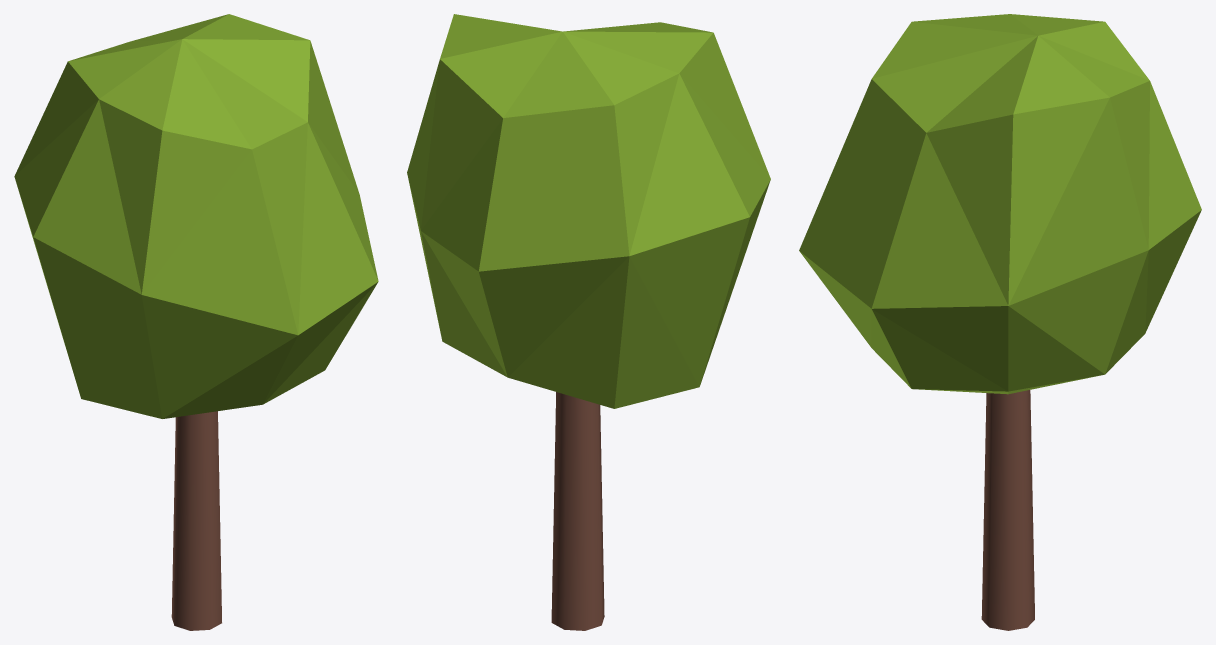
The model's file is tree1.fbx.
3 views of the same model, side by side, from view 1: azimuth 30°, elevation 25°; view 2: azimuth 150°, elevation 25°; view 3: azimuth 270°, elevation 25° (orthographic). The views are drawn at different scales.
Visible parts, largest first — view 1: sptp_tree_02; view 2: sptp_tree_02; view 3: sptp_tree_02.
Part boxes in pixels (<box>): sptp_tree_02: <box>14,14,378,630</box>; sptp_tree_02: <box>407,14,770,630</box>; sptp_tree_02: <box>799,14,1201,630</box>.
Bounding box in the file's own units: 290 × 483 × 302.
Materials: 1 (1 with a texture image).
